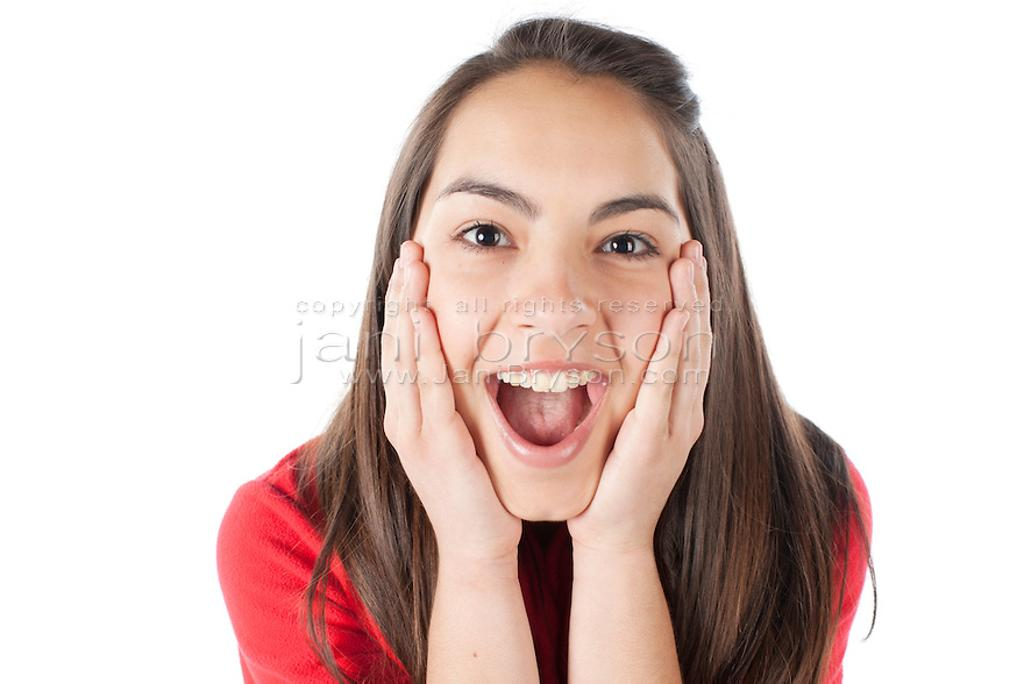face: (406, 110, 694, 522)
